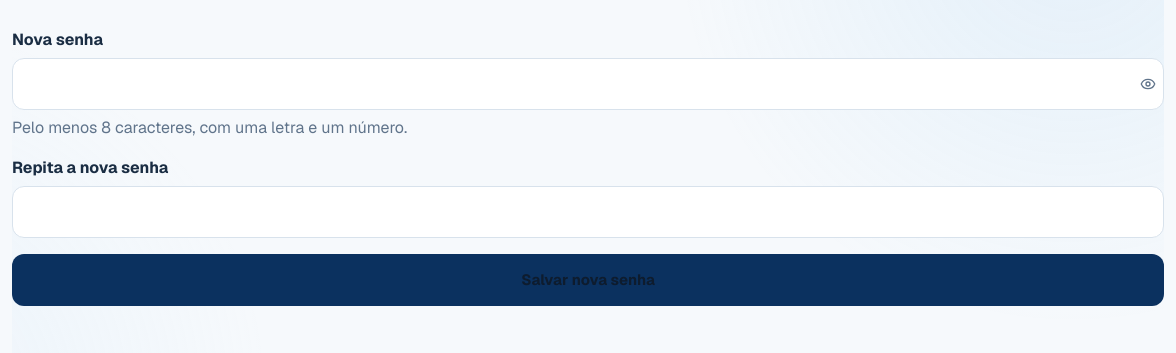
Test: o que a tela barra antes de chamar o servidor › recusa senhas diferentes, e aponta o campo de confirmação
In the password field labelled "Nova senha": (588, 84) 12,58 -> 1164,110, type "clinica2026"
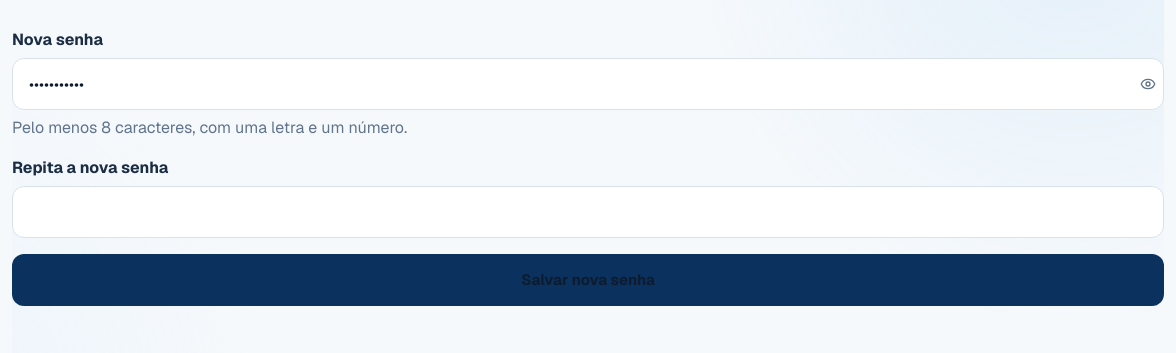
In the password field labelled "Repita a nova senha": (588, 212) 12,186 -> 1164,238, type "clinica2027"
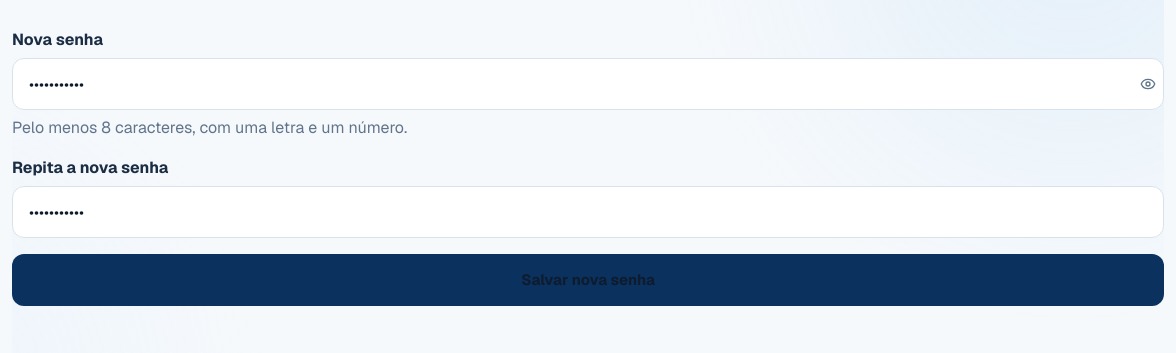
Click the button "Salvar nova senha": (588, 280) 12,254 -> 1164,306
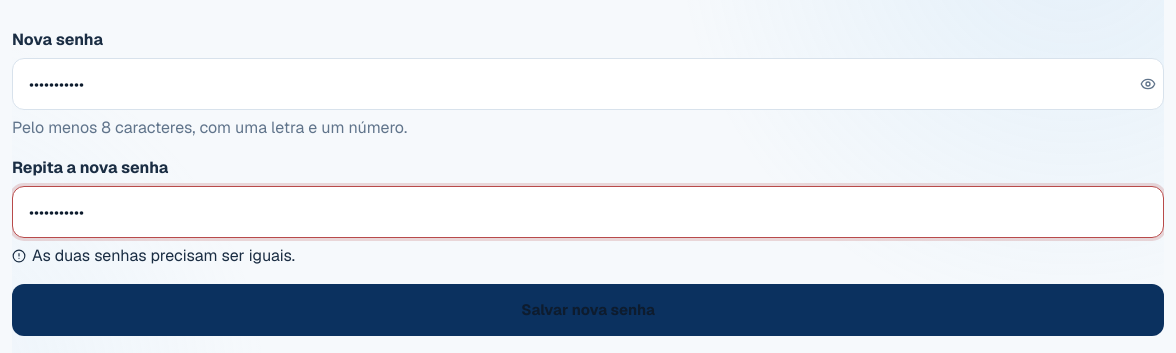
Result: the text "As duas senhas precisam ser iguais." is shown at 12,245 -> 295,266
